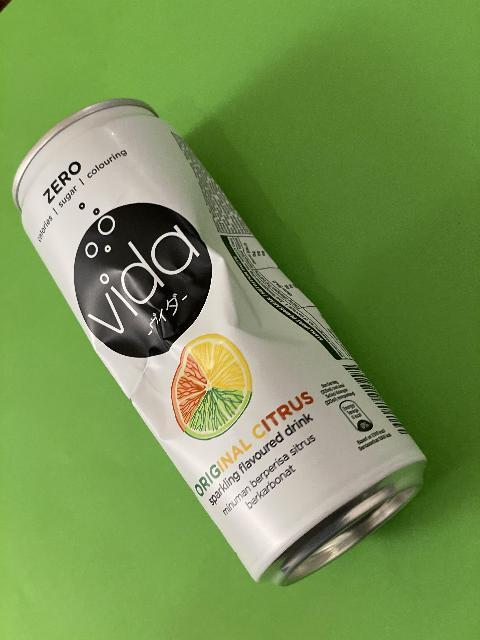drinkcan: (11, 96, 427, 590)
